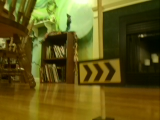right: (77, 60, 123, 85)
